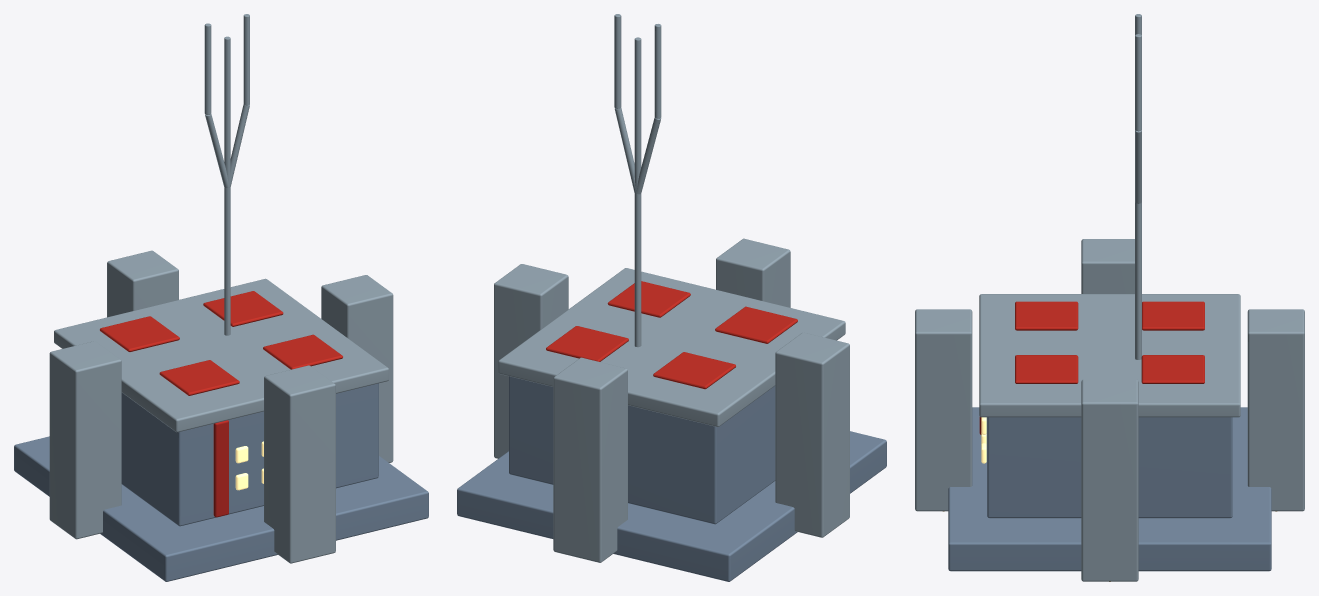
3 views of the same model, side by side, from view 1: azimuth 30°, elevation 25°; view 2: azimuth 150°, elevation 25°; view 3: azimuth 270°, elevation 25° (orthographic). The views are drawn at different scales.
Visible parts, largest first — view 1: Block roof ledge, Modular block storey, Foundation slab, Block buttress.003, Block buttress.002, Block buttress, Block buttress.001, Aerial stem, Roof recessed opening, Roof recessed opening.001, Roof recessed opening.002, Roof recessed opening.003 (+4 smaller); view 2: Block roof ledge, Modular block storey, Foundation slab, Block buttress.001, Block buttress.002, Block buttress, Block buttress.003, Aerial stem, Roof recessed opening.001, Roof recessed opening, Roof recessed opening.003, Roof recessed opening.002 (+4 smaller); view 3: Block roof ledge, Modular block storey, Foundation slab, Block buttress, Block buttress.001, Block buttress.003, Block buttress.002, Roof recessed opening, Roof recessed opening.001, Roof recessed opening.002, Roof recessed opening.003, Aerial stem (+2 smaller).
Boxes of the visible parts, x1=… form: Block roof ledge: x1=54, y1=278, x2=388, y2=432; Modular block storey: x1=121, y1=383, x2=378, y2=526; Foundation slab: x1=14, y1=436, x2=428, y2=581; Block buttress.003: x1=264, y1=365, x2=335, y2=563; Block buttress.002: x1=49, y1=341, x2=121, y2=539; Block buttress: x1=321, y1=275, x2=393, y2=462; Block buttress.001: x1=107, y1=250, x2=178, y2=317; Aerial stem: x1=224, y1=36, x2=230, y2=335; Roof recessed opening: x1=159, y1=360, x2=239, y2=395; Roof recessed opening.001: x1=100, y1=316, x2=179, y2=351; Roof recessed opening.002: x1=263, y1=334, x2=342, y2=369; Roof recessed opening.003: x1=203, y1=291, x2=283, y2=326; Block roof ledge: x1=498, y1=268, x2=845, y2=426; Modular block storey: x1=509, y1=376, x2=775, y2=524; Foundation slab: x1=457, y1=431, x2=886, y2=581; Block buttress.001: x1=553, y1=357, x2=627, y2=562; Block buttress.002: x1=775, y1=332, x2=849, y2=537; Block buttress: x1=494, y1=264, x2=568, y2=458; Block buttress.003: x1=716, y1=238, x2=790, y2=307; Aerial stem: x1=634, y1=37, x2=641, y2=347; Roof recessed opening.001: x1=653, y1=352, x2=735, y2=389; Roof recessed opening: x1=715, y1=306, x2=797, y2=343; Roof recessed opening.003: x1=546, y1=326, x2=628, y2=361; Roof recessed opening.002: x1=607, y1=281, x2=690, y2=317; Block roof ledge: x1=979, y1=294, x2=1240, y2=417; Modular block storey: x1=987, y1=417, x2=1232, y2=518; Foundation slab: x1=948, y1=407, x2=1271, y2=571; Block buttress: x1=1081, y1=379, x2=1138, y2=581; Block buttress.001: x1=1247, y1=309, x2=1304, y2=511; Block buttress.003: x1=915, y1=309, x2=972, y2=511; Block buttress.002: x1=1081, y1=239, x2=1134, y2=293; Roof recessed opening: x1=1015, y1=301, x2=1078, y2=330; Roof recessed opening.001: x1=1142, y1=301, x2=1204, y2=330; Roof recessed opening.002: x1=1015, y1=355, x2=1078, y2=383; Roof recessed opening.003: x1=1141, y1=355, x2=1204, y2=383; Aerial stem: x1=1135, y1=202, x2=1141, y2=359.
Bounding box in the file's own units: 2.46 × 3.4 × 2.46.
